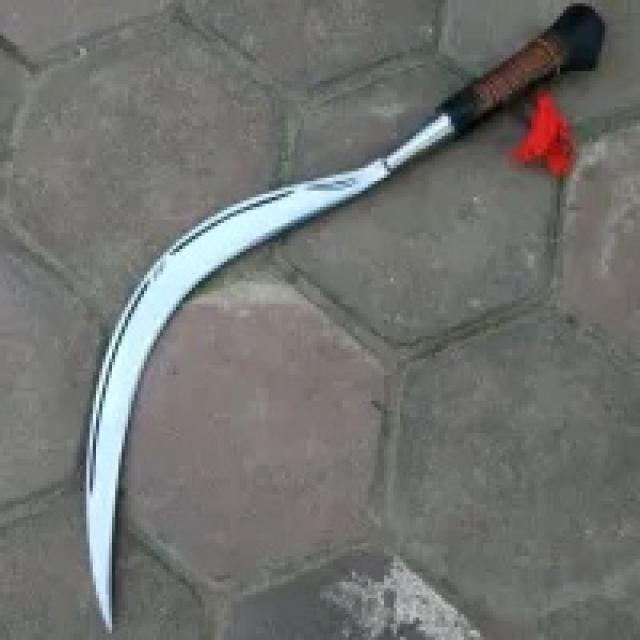Celurit: (83, 4, 606, 634)
